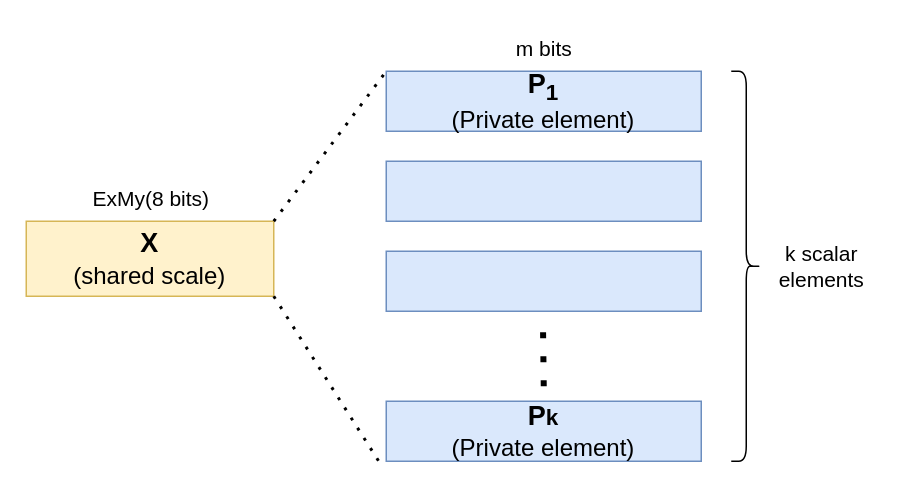
This 908x489 diagram has some shape labels left out. Each missing label, with the centre of its shape:
P 2 (Private element): pixel 543 190
P 3 (Private element): pixel 543 280
